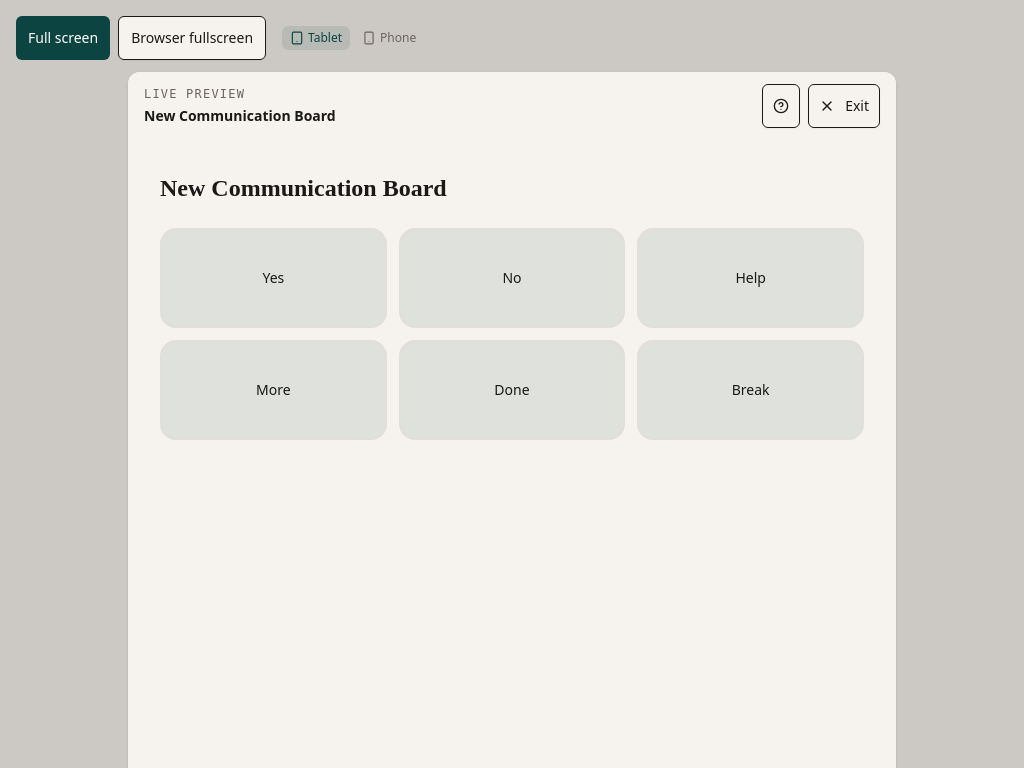
Test: PreviewPanel › opens in-app fullscreen mode when Full screen button is clicked
Click the button "Full screen": (63, 38) [16,16,110,60]
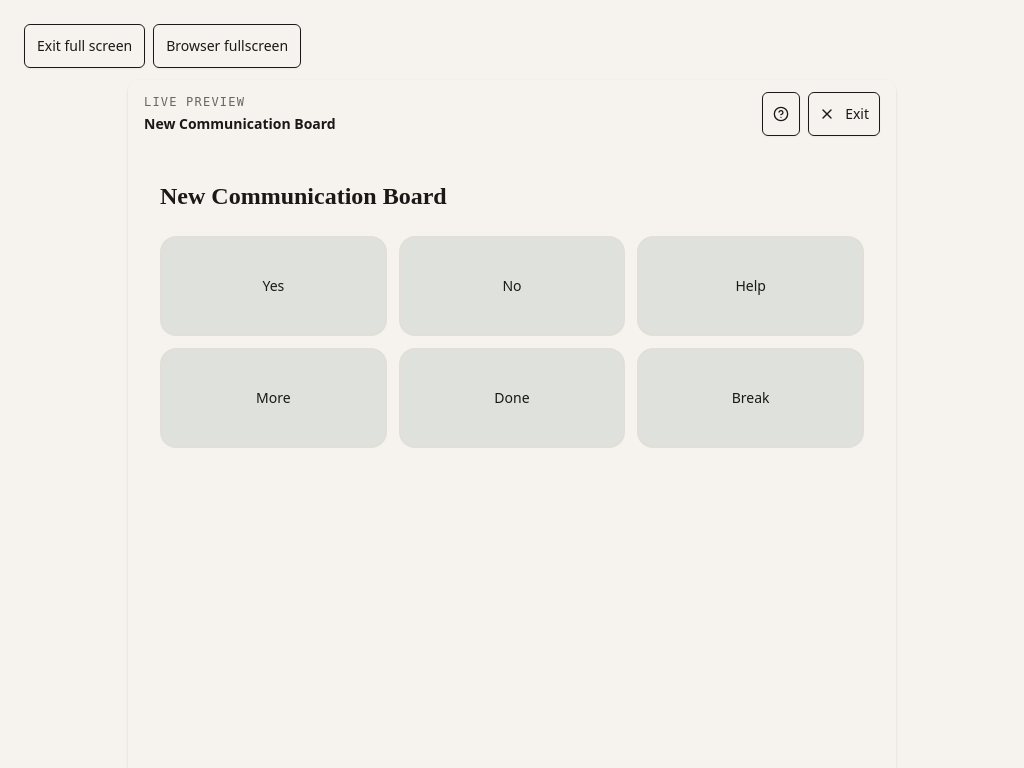
Check: the button "Exit full screen" is shown, box [24,24,145,68]
